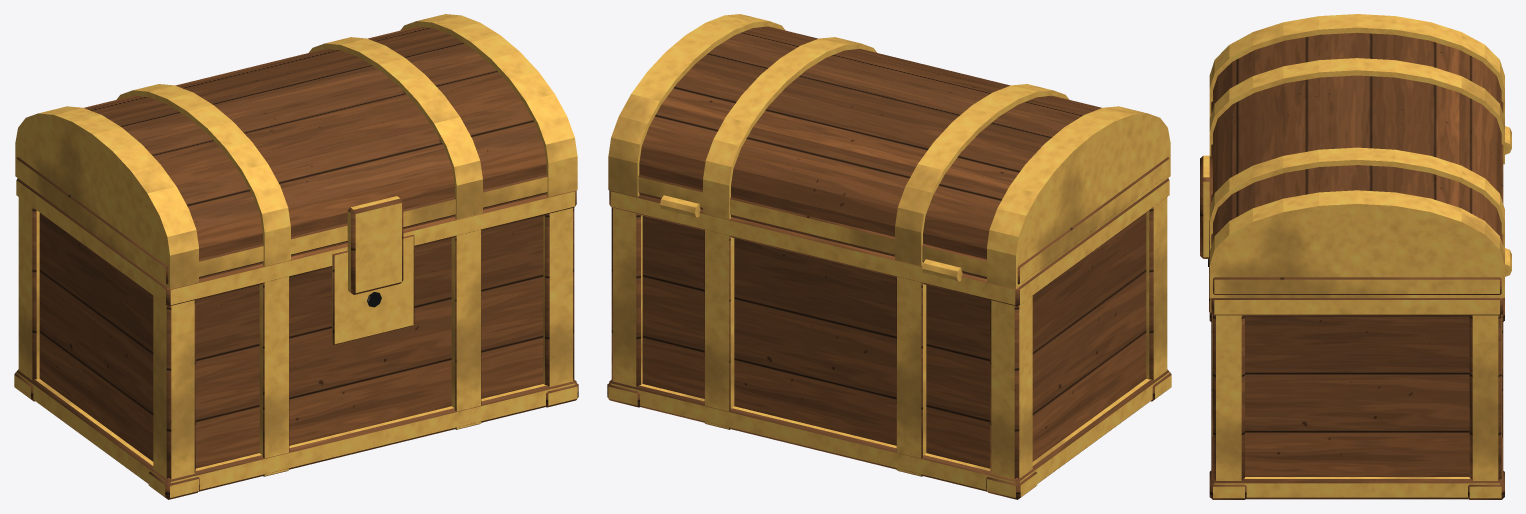
The model's file is chest.glb.
The picture shows the model from 3 angles, left to right: view 1: azimuth 30°, elevation 25°; view 2: azimuth 150°, elevation 25°; view 3: azimuth 270°, elevation 25°; orthographic projection. The views are drawn at different scales.
Parts seen in each view (by area): view 1: Chest, Lid; view 2: Chest, Lid; view 3: Lid, Chest.
Part boxes in pixels (left/top/right/bottom): Chest: left=14, top=178, right=578, bottom=499; Lid: left=15, top=14, right=577, bottom=294; Chest: left=607, top=178, right=1171, bottom=499; Lid: left=608, top=14, right=1170, bottom=289; Lid: left=1200, top=14, right=1511, bottom=297; Chest: left=1208, top=220, right=1504, bottom=499.
Size of the model in its own units: 1.42 by 1.02 by 0.972.
Materials: 4 (4 with a texture image).
